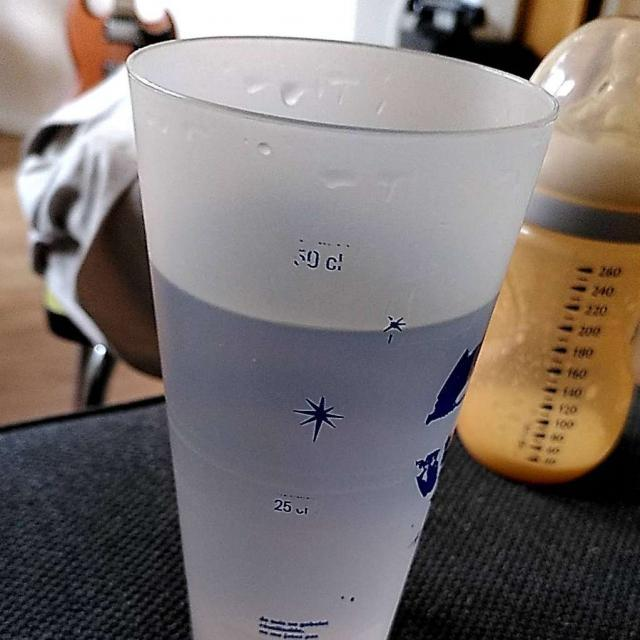water: (164, 216, 502, 633)
